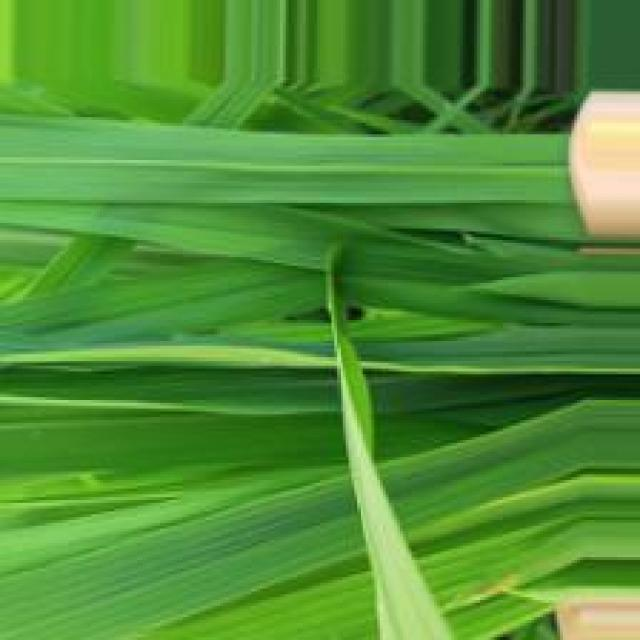HealthyLeaf: (8, 486, 361, 635), (18, 126, 567, 198), (3, 408, 342, 472), (388, 415, 577, 529), (15, 268, 313, 333), (180, 578, 376, 637), (167, 208, 328, 262), (439, 334, 632, 367)
